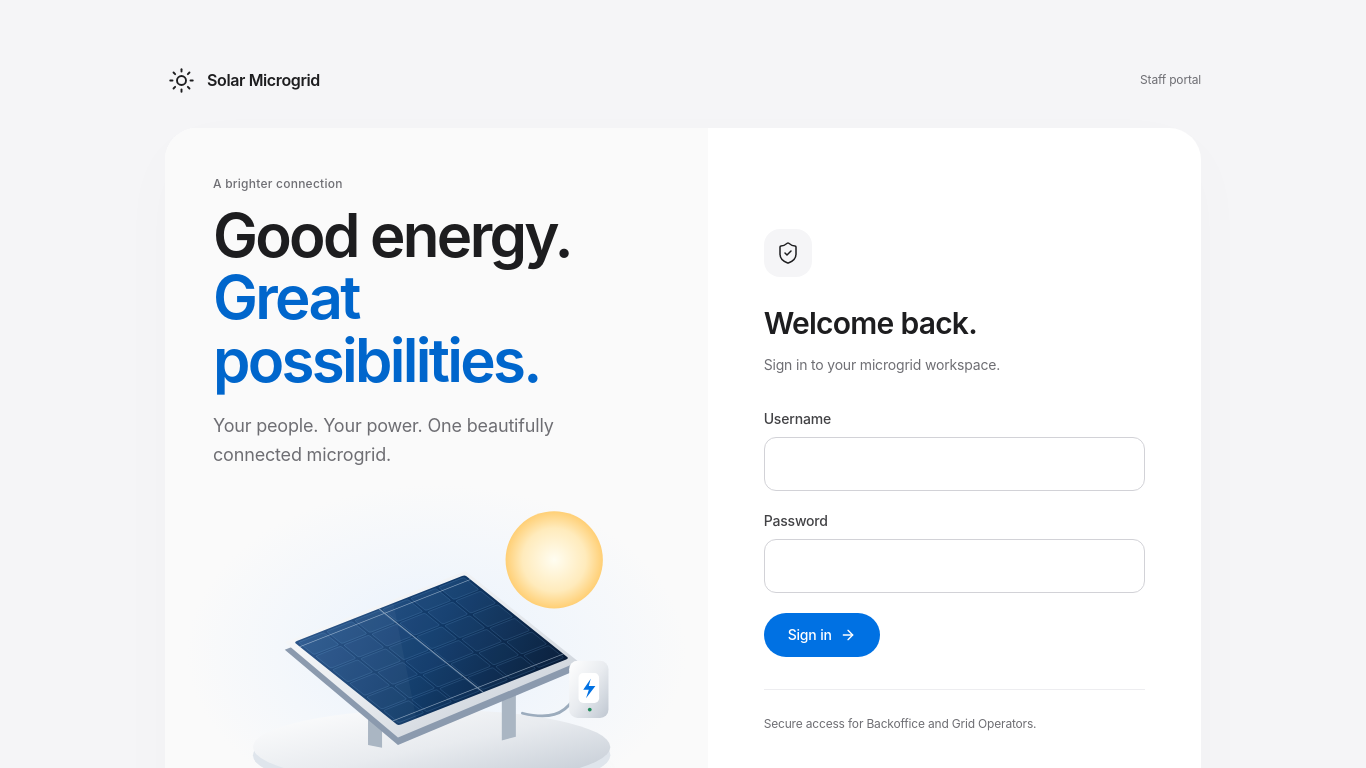
Test: React portal workflows › keeps entered values when a network request fails and allows retry
Type "operator" into the field labelled "Username". click: (954, 464)
box: [764, 437, 1145, 491]
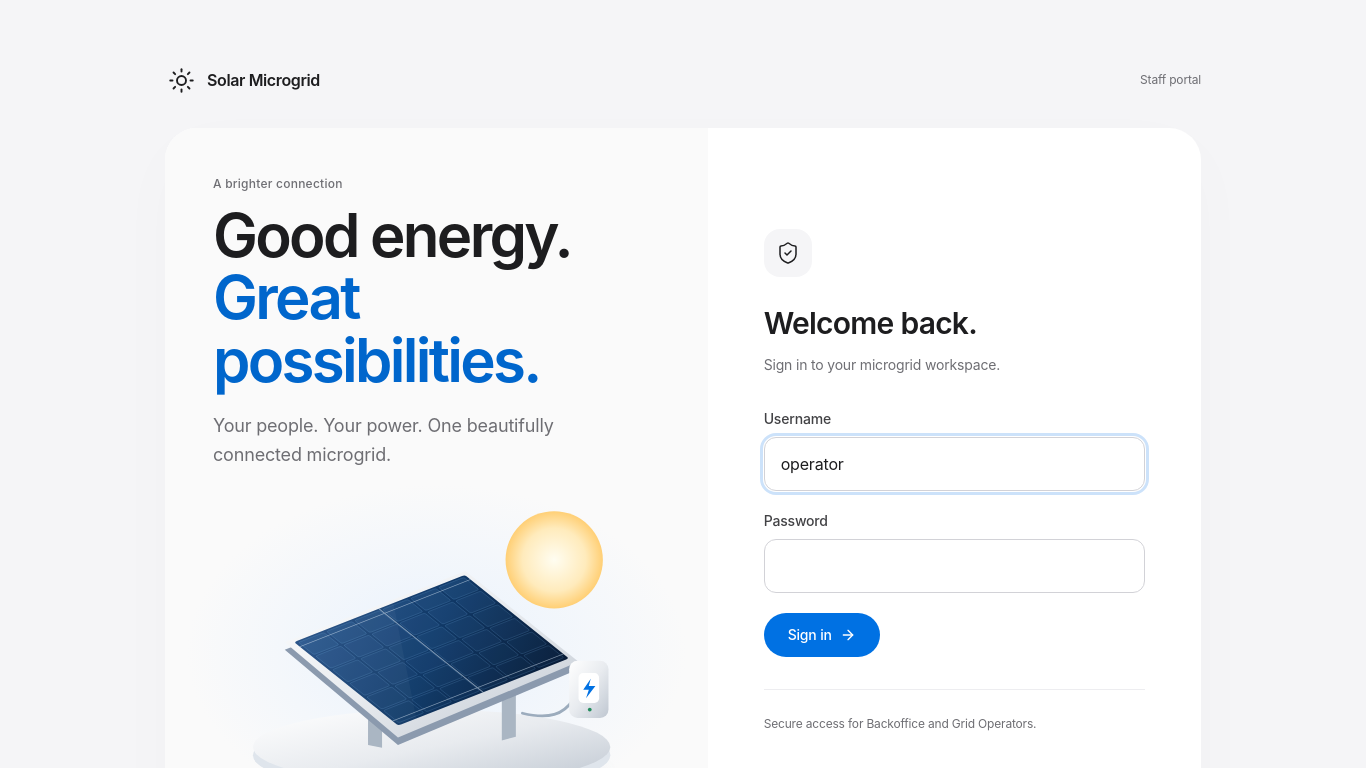
Type "password-value" into the password field labelled "Password". click: (954, 566)
box: [764, 539, 1145, 593]
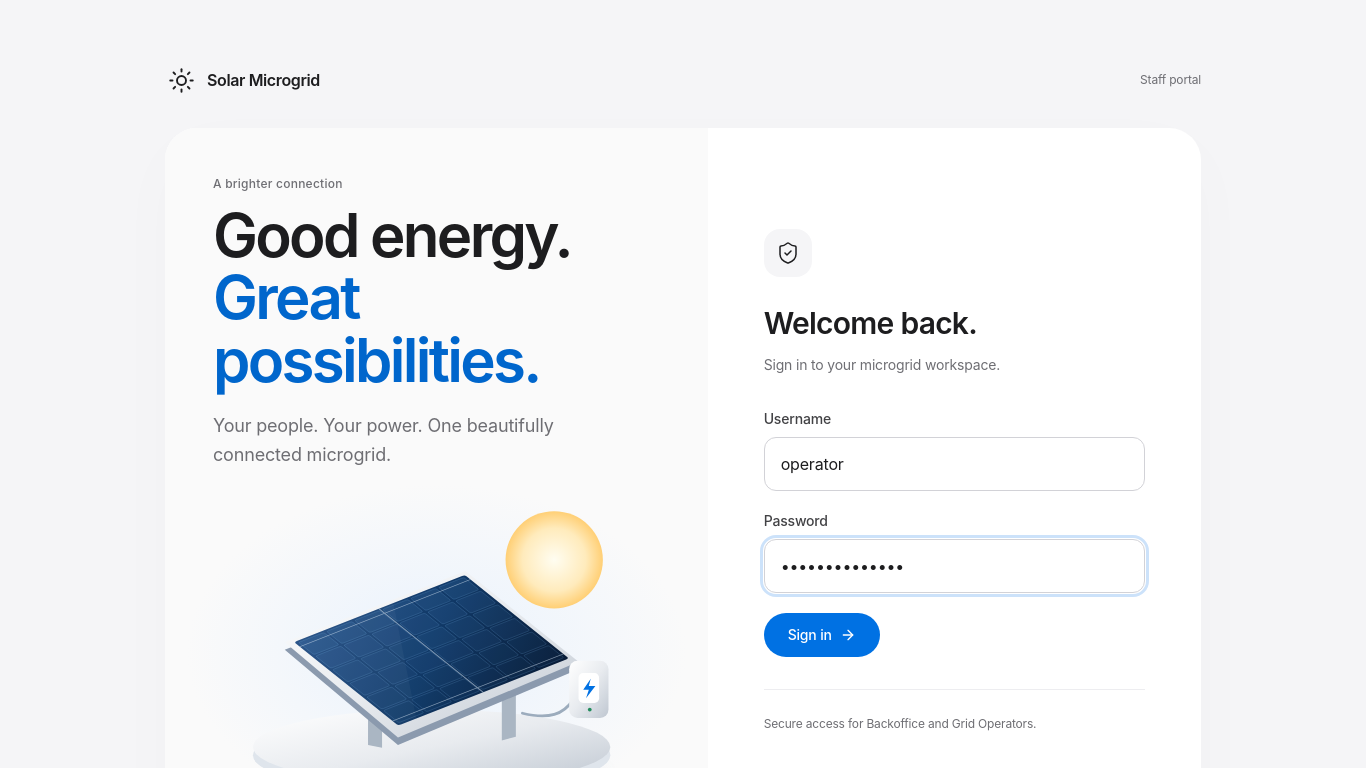
Click the button "Sign in". click: (822, 635)
box: [764, 613, 880, 657]
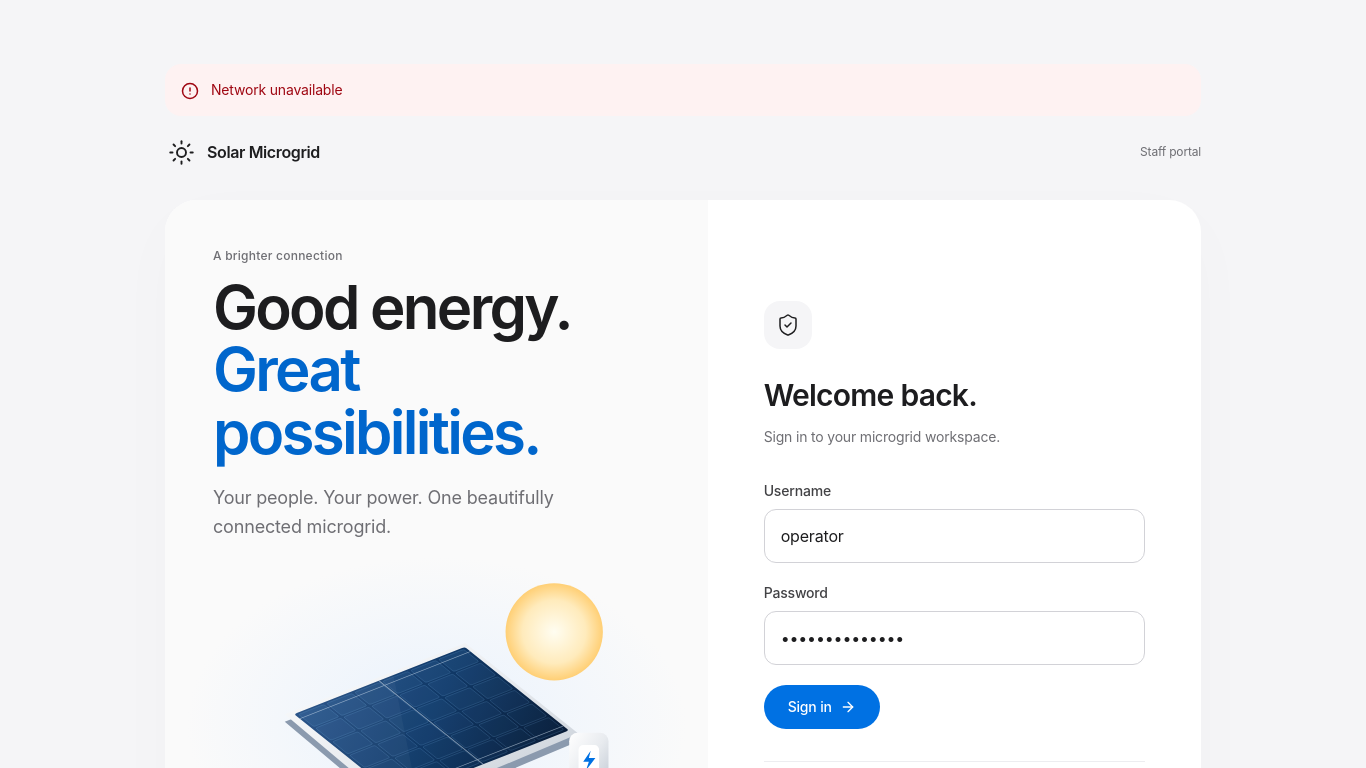
Check: the button "Sign in" is enabled, box [764, 685, 880, 729]
Check: the message reads "Network unavailable", box [211, 81, 342, 98]
